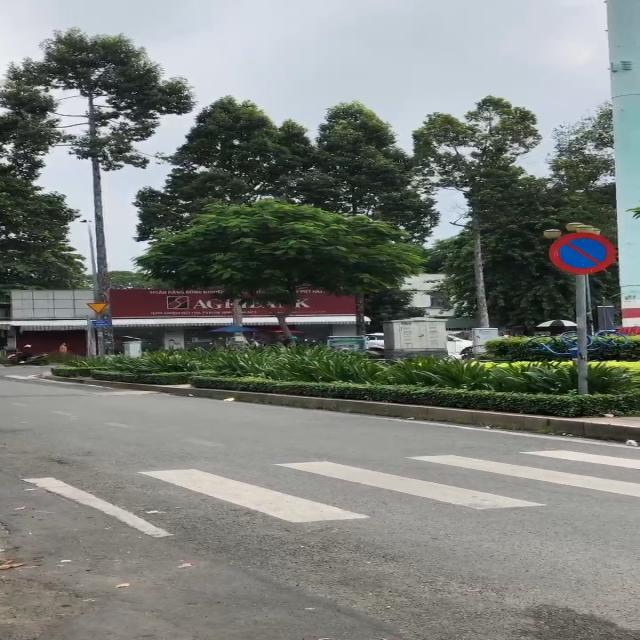Bien bao cam do xe: (545, 228, 616, 276)
Bien bao giao nhau voi duong uu tien: (83, 302, 111, 314)
